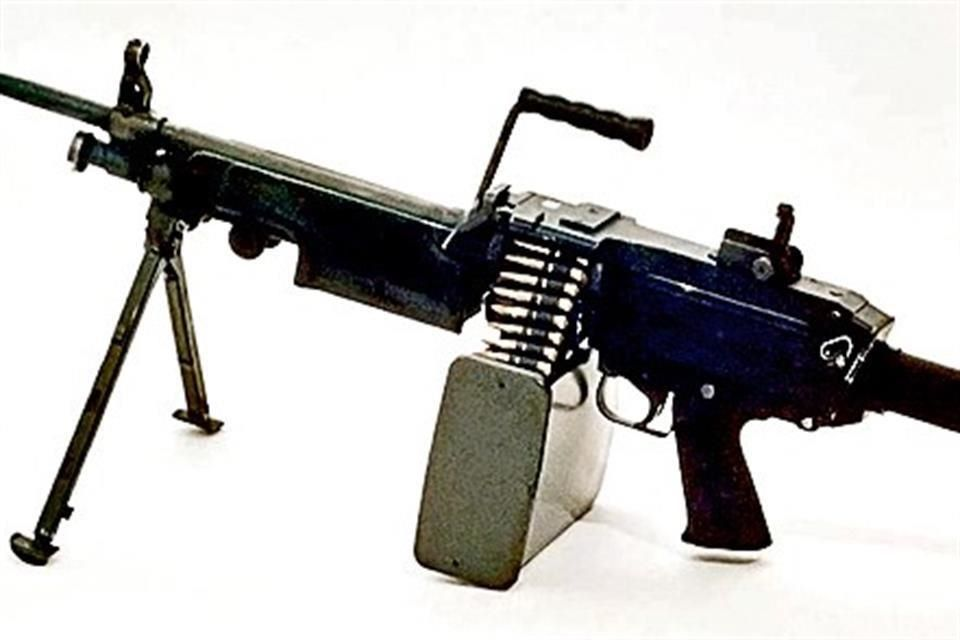Arma Real: (3, 38, 960, 595)
